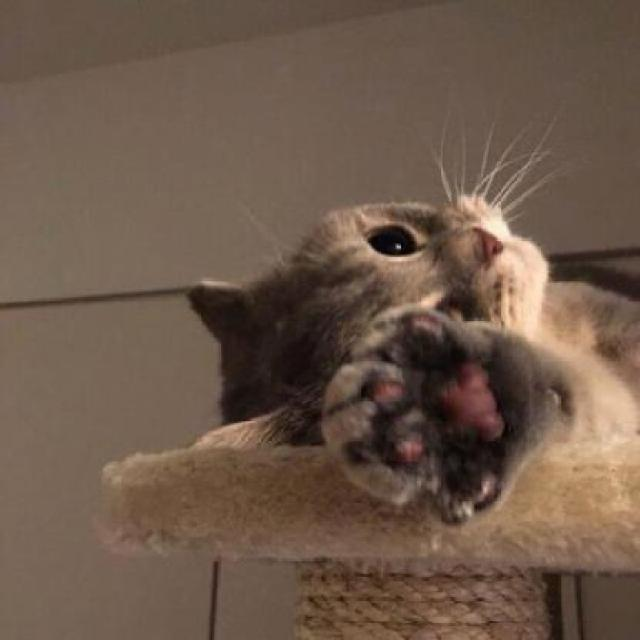cat: (180, 188, 611, 512)
